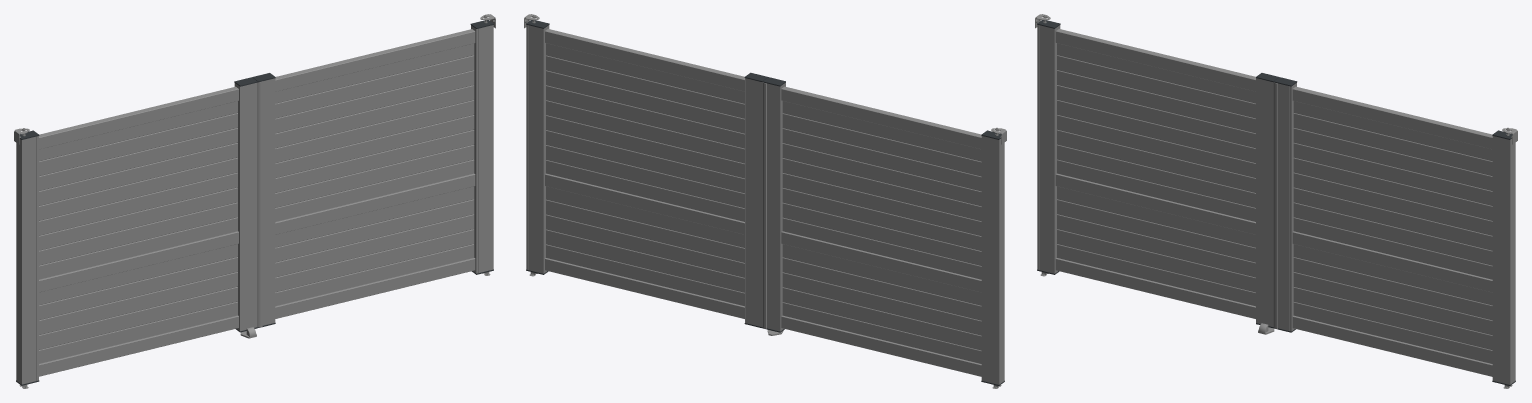
3 views of the same model, side by side, from view 1: azimuth 30°, elevation 25°; view 2: azimuth 150°, elevation 25°; view 3: azimuth 330°, elevation 25° (orthographic).
Visible parts, largest first — view 1: Shape107412643, Shape107412971, Shape107412644, Shape107412972, Shape107412772, Shape107412775, Shape107412774, Shape107412783, Shape107412784, Shape107412777, Shape107412780, Shape107412778 (+27 smaller); view 2: Shape107412643, Shape107412971, Shape107412972, Shape107412644, Shape042, Shape107412757, Shape107412768, Shape107412758, Shape107412760, Shape107412766, Shape107412761, Shape107412763 (+27 smaller); view 3: Shape107412971, Shape107412643, Shape107412644, Shape107412972, Shape042, Shape107412772, Shape107412784, Shape107412774, Shape107412776, Shape107412779, Shape107412783, Shape107412785 (+27 smaller).
Boxes of the visible parts, x1=… form: Shape107412643: x1=16, y1=136, x2=38, y2=384; Shape107412971: x1=471, y1=25, x2=493, y2=273; Shape107412644: x1=234, y1=83, x2=257, y2=331; Shape107412972: x1=259, y1=78, x2=275, y2=325; Shape107412772: x1=275, y1=29, x2=475, y2=91; Shape107412775: x1=275, y1=70, x2=474, y2=133; Shape107412774: x1=275, y1=55, x2=474, y2=118; Shape107412783: x1=275, y1=199, x2=474, y2=262; Shape107412784: x1=275, y1=214, x2=474, y2=277; Shape107412777: x1=275, y1=100, x2=474, y2=163; Shape107412780: x1=275, y1=145, x2=474, y2=207; Shape107412778: x1=275, y1=115, x2=474, y2=178; Shape107412643: x1=981, y1=136, x2=1004, y2=384; Shape107412971: x1=526, y1=24, x2=549, y2=273; Shape107412972: x1=745, y1=78, x2=762, y2=326; Shape107412644: x1=764, y1=82, x2=785, y2=331; Shape042: x1=781, y1=86, x2=981, y2=149; Shape107412757: x1=782, y1=113, x2=981, y2=176; Shape107412768: x1=782, y1=287, x2=981, y2=350; Shape107412758: x1=782, y1=128, x2=981, y2=191; Shape107412760: x1=782, y1=158, x2=981, y2=221; Shape107412766: x1=782, y1=257, x2=981, y2=320; Shape107412761: x1=782, y1=173, x2=981, y2=236; Shape107412763: x1=782, y1=203, x2=981, y2=265; Shape107412971: x1=1492, y1=136, x2=1515, y2=384; Shape107412643: x1=1037, y1=24, x2=1060, y2=273; Shape107412644: x1=1256, y1=78, x2=1273, y2=326; Shape107412972: x1=1275, y1=82, x2=1296, y2=331; Shape042: x1=1055, y1=29, x2=1255, y2=91; Shape107412772: x1=1292, y1=86, x2=1492, y2=149; Shape107412784: x1=1293, y1=272, x2=1492, y2=335; Shape107412774: x1=1293, y1=113, x2=1492, y2=176; Shape107412776: x1=1293, y1=143, x2=1492, y2=205; Shape107412779: x1=1293, y1=187, x2=1492, y2=250; Shape107412783: x1=1293, y1=257, x2=1492, y2=320; Shape107412785: x1=1293, y1=287, x2=1492, y2=350.
Bounding box in the file's own units: 3259 × 1693 × 116.
7 materials, 2 textured.
